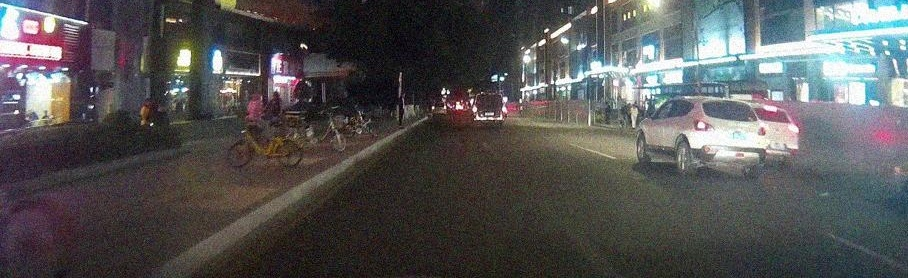L_light: (693, 120, 712, 131), (472, 106, 477, 112)
R_light: (757, 127, 767, 136), (502, 107, 506, 112)
T_light: (726, 101, 737, 104), (487, 95, 492, 96)
night-left: (694, 99, 769, 182)
night-no: (472, 93, 505, 127)
